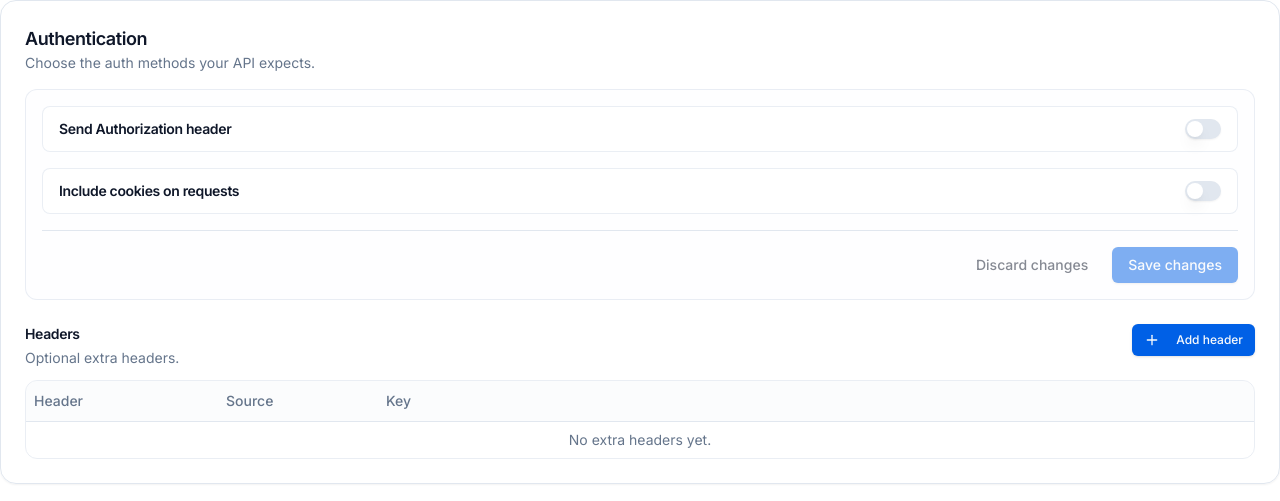
SessionHeadersPanel › tracks dirty auth state before enabling save
Check: the button with test id "save-auth-settings" is disabled, box [1112,247,1238,283]
What coordinates should you click on to do the following:
click the switch with test id "send-cookies-switch"
I would click on:
 (1203, 191)
Its box is [1185,181,1221,201].
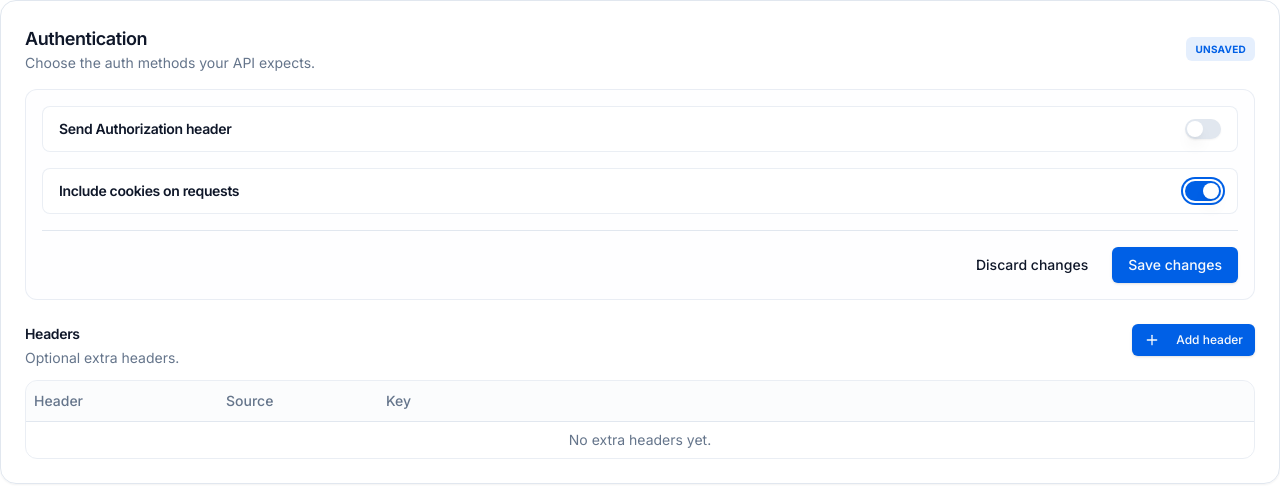
Check: the text "Unsaved" is shown, box [1186,37,1255,61]
Check: the button with test id "save-auth-settings" is enabled, box [1112,247,1238,283]
